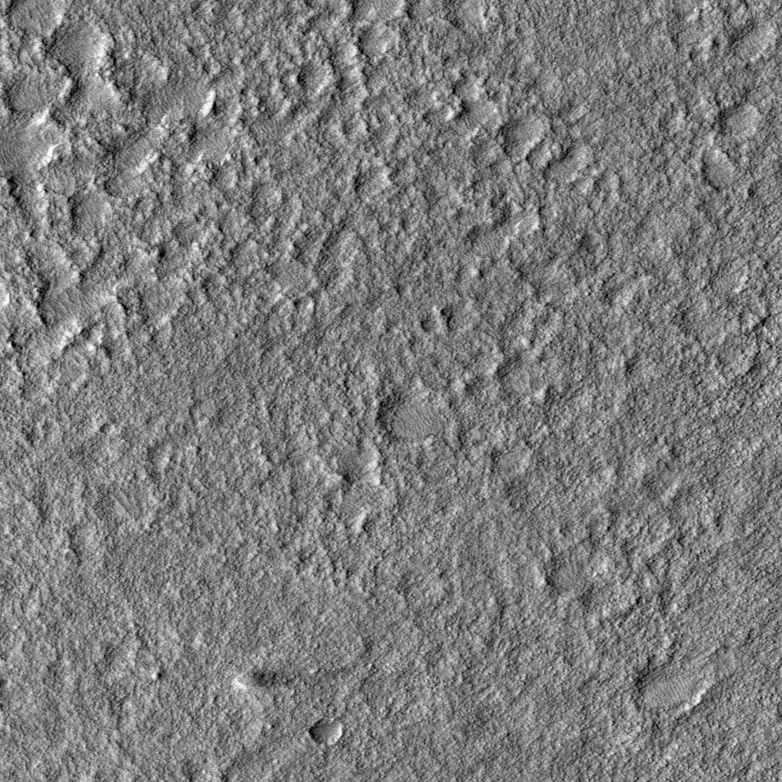dust_devil: (228, 666, 294, 695)
